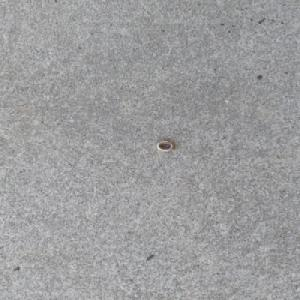Nut: (155, 140, 175, 152)
